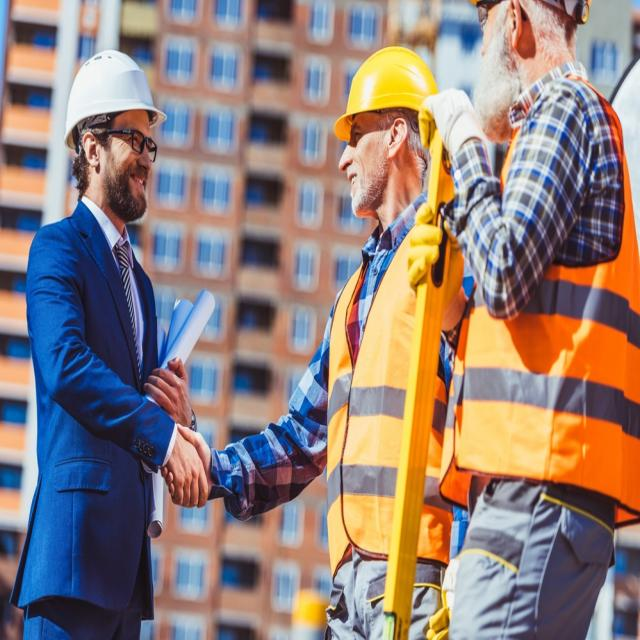Reflective-Jacket: (446, 90, 640, 524), (324, 215, 456, 575)
Safety-Helmet: (332, 40, 442, 147), (61, 43, 166, 148)
